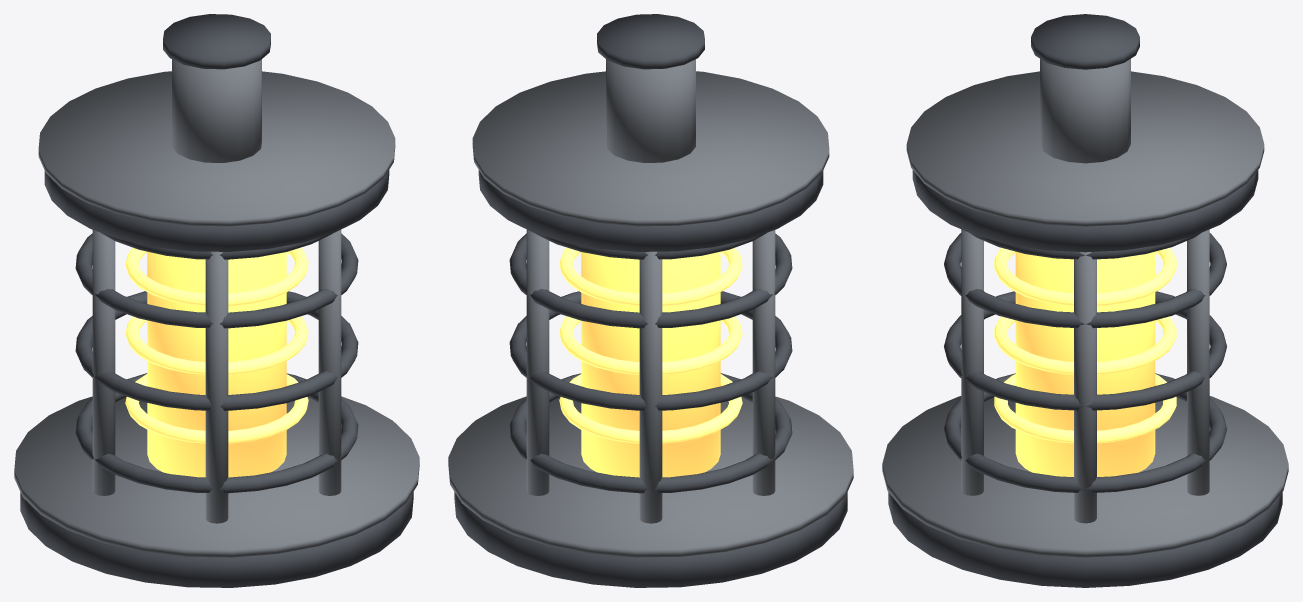
Rendered from reactor.glb.
The picture shows the model from 3 angles, left to right: view 1: azimuth 30°, elevation 25°; view 2: azimuth 150°, elevation 25°; view 3: azimuth 270°, elevation 25°; orthographic projection.
Parts seen in each view (by area): view 1: reactor; view 2: reactor; view 3: reactor.
Part boxes in pixels (x1,y1,x2,y2): reactor: (14, 14, 419, 587); reactor: (448, 14, 853, 587); reactor: (882, 14, 1288, 587).
Size of the model in its own units: 2.68 by 3.4 by 2.68.
